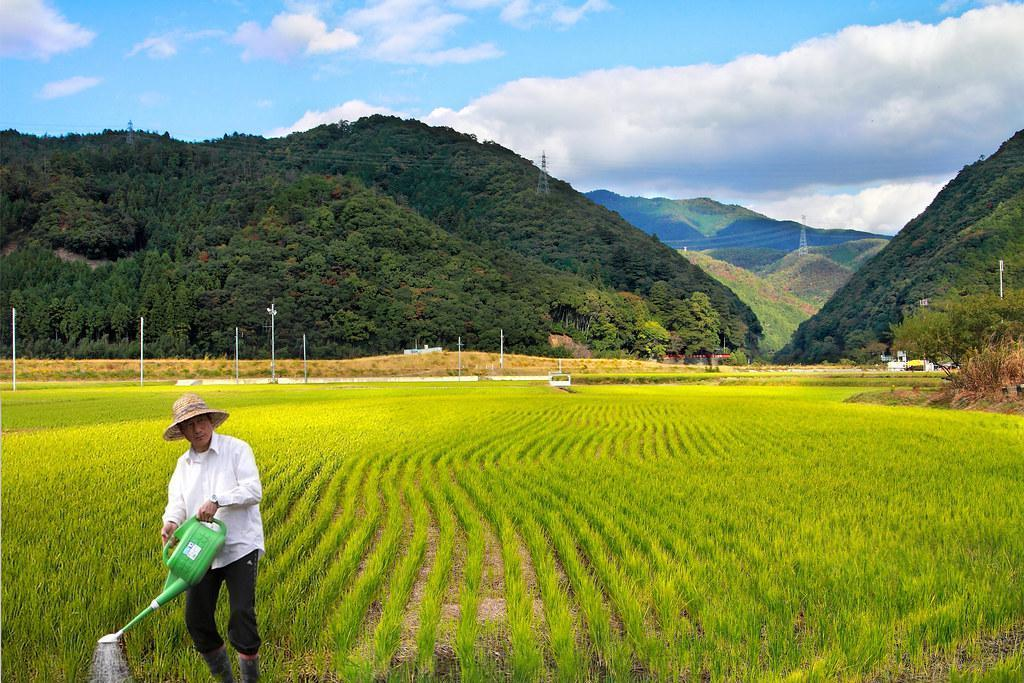power_tower: (531, 150, 554, 198), (794, 216, 813, 258), (122, 118, 140, 146)
